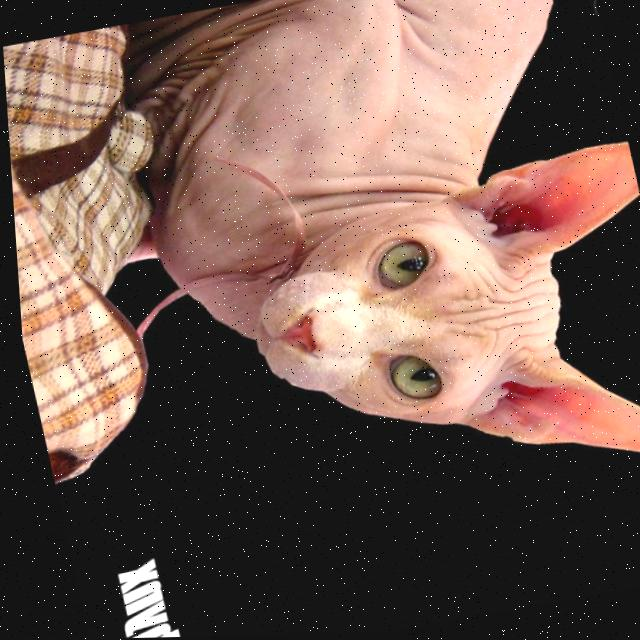Sphynx: (78, 0, 640, 544)
